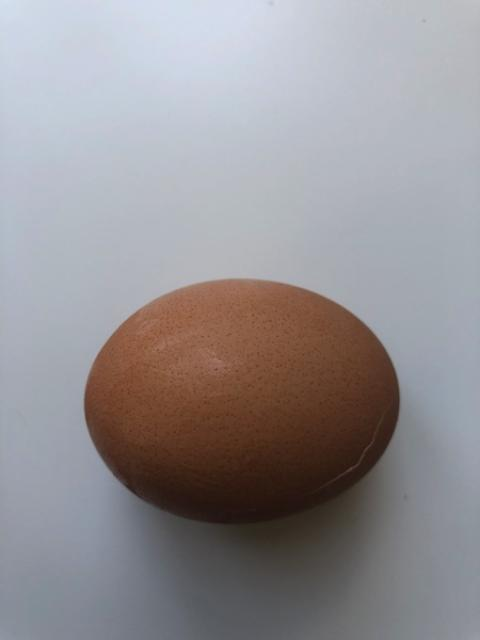Roto: (82, 275, 401, 525)
